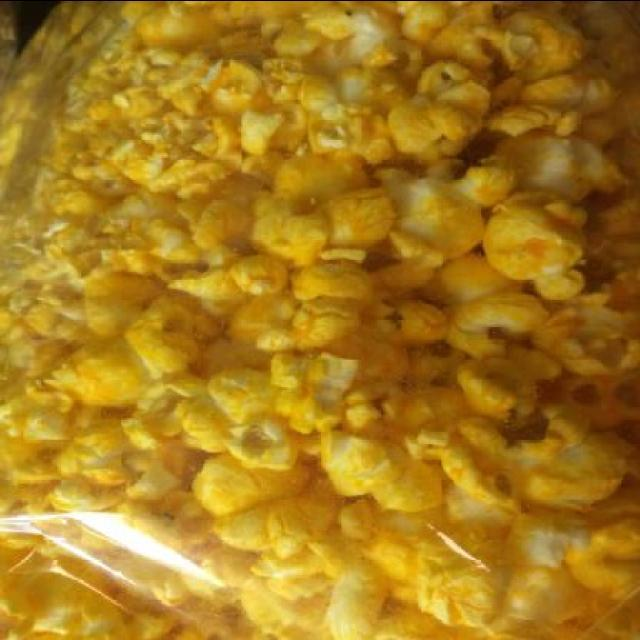Popcorn: (8, 0, 636, 640)
